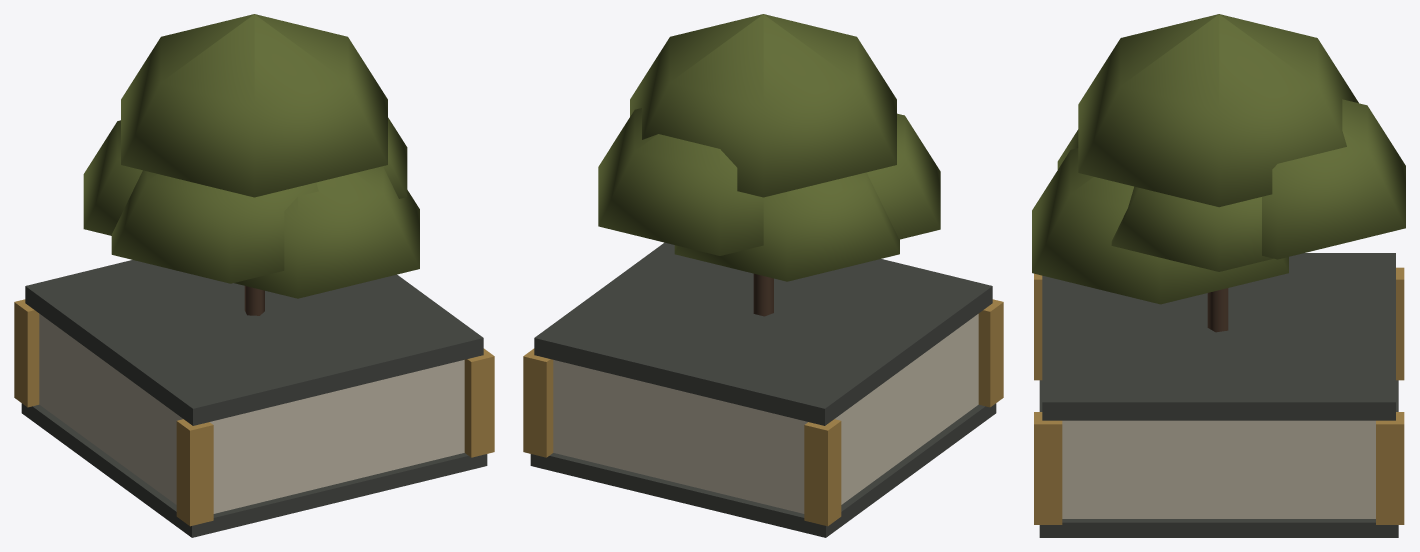
File: planter_big.glb
3 views of the same model, side by side, from view 1: azimuth 30°, elevation 25°; view 2: azimuth 150°, elevation 25°; view 3: azimuth 270°, elevation 25° (orthographic). The views are drawn at different scales.
Parts seen in each view (by area): view 1: planter_big; view 2: planter_big; view 3: planter_big.
Part boxes in pixels (x1=…): planter_big: x1=14, y1=14, x2=494, y2=537; planter_big: x1=523, y1=14, x2=1003, y2=537; planter_big: x1=1032, y1=14, x2=1405, y2=537.
Bounding box in the file's own units: 1.33 × 1.73 × 1.31.
